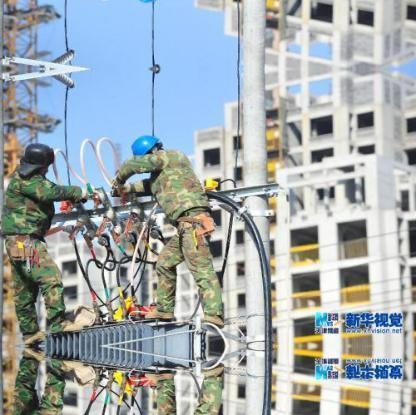helmet: (123, 126, 169, 164), (19, 139, 63, 174)
